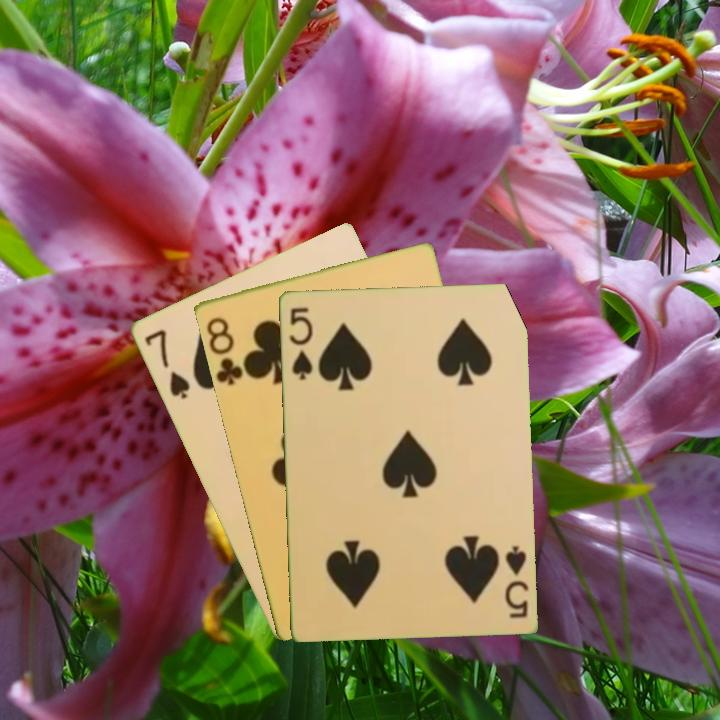5s: (501, 541, 531, 621), (285, 303, 315, 382)
7s: (140, 326, 193, 402)
8c: (202, 313, 250, 388)
